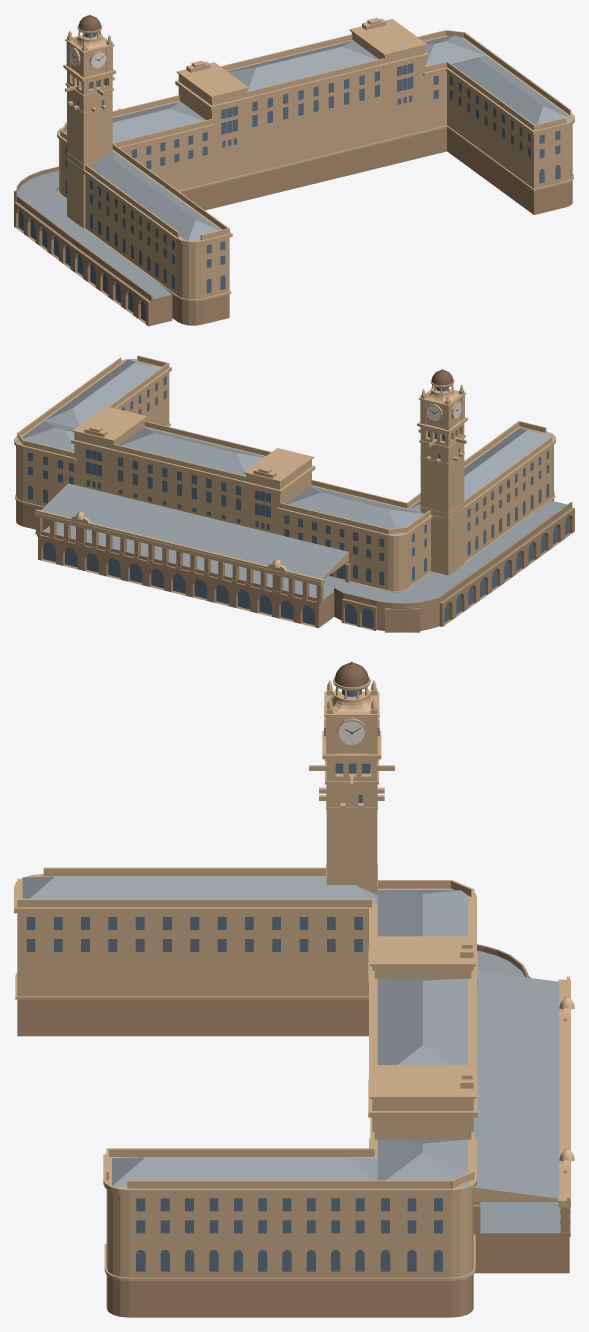
File: sydney-central-station-clock-tower.glb
The picture shows the model from 3 angles, top to bottom: view 1: azimuth 30°, elevation 25°; view 2: azimuth 150°, elevation 25°; view 3: azimuth 270°, elevation 25°; orthographic projection. The views are drawn at different scales.
Parts seen in each view (by area): view 1: Central Station, Sydney; view 2: Central Station, Sydney; view 3: Central Station, Sydney.
Part boxes in pixels (x1,y1,x2,y2): Central Station, Sydney: [14, 14, 574, 326]; Central Station, Sydney: [14, 355, 574, 632]; Central Station, Sydney: [14, 661, 574, 1317].
Bounding box in the file's own units: 144 × 70.5 × 102.
